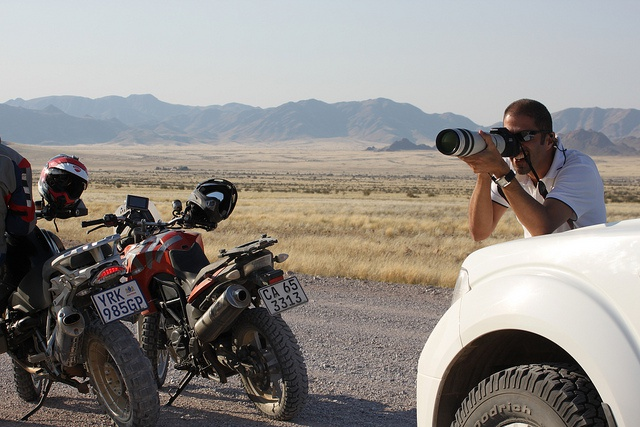non-vehicle: (84, 195, 310, 422), (2, 227, 158, 419)
